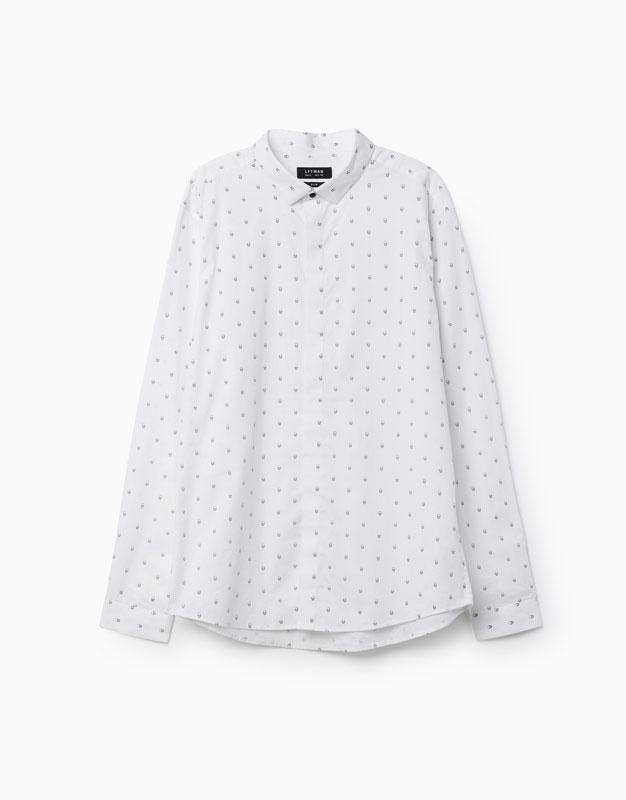teeshirt: (97, 118, 551, 652)
